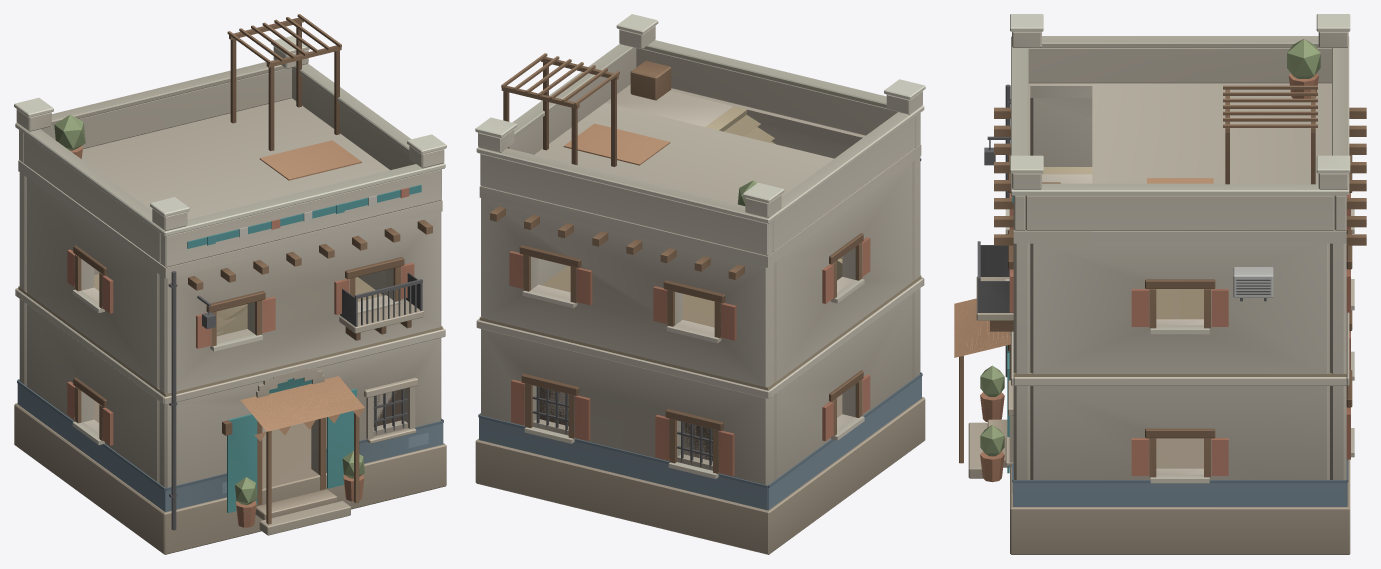
The model's file is house_2.glb.
3 renders of one model, left to right at view 1: azimuth 30°, elevation 25°; view 2: azimuth 150°, elevation 25°; view 3: azimuth 270°, elevation 25°, orthographic. The views are drawn at different scales.
Parts seen in each view (by area): view 1: house_2; view 2: house_2; view 3: house_2.
Part boxes in pixels (x1,y1,x2,y2): house_2: (14, 14, 446, 554); house_2: (475, 14, 925, 554); house_2: (954, 14, 1366, 554).
Bounding box in the file's own units: 8.24 × 9.84 × 8.67.
